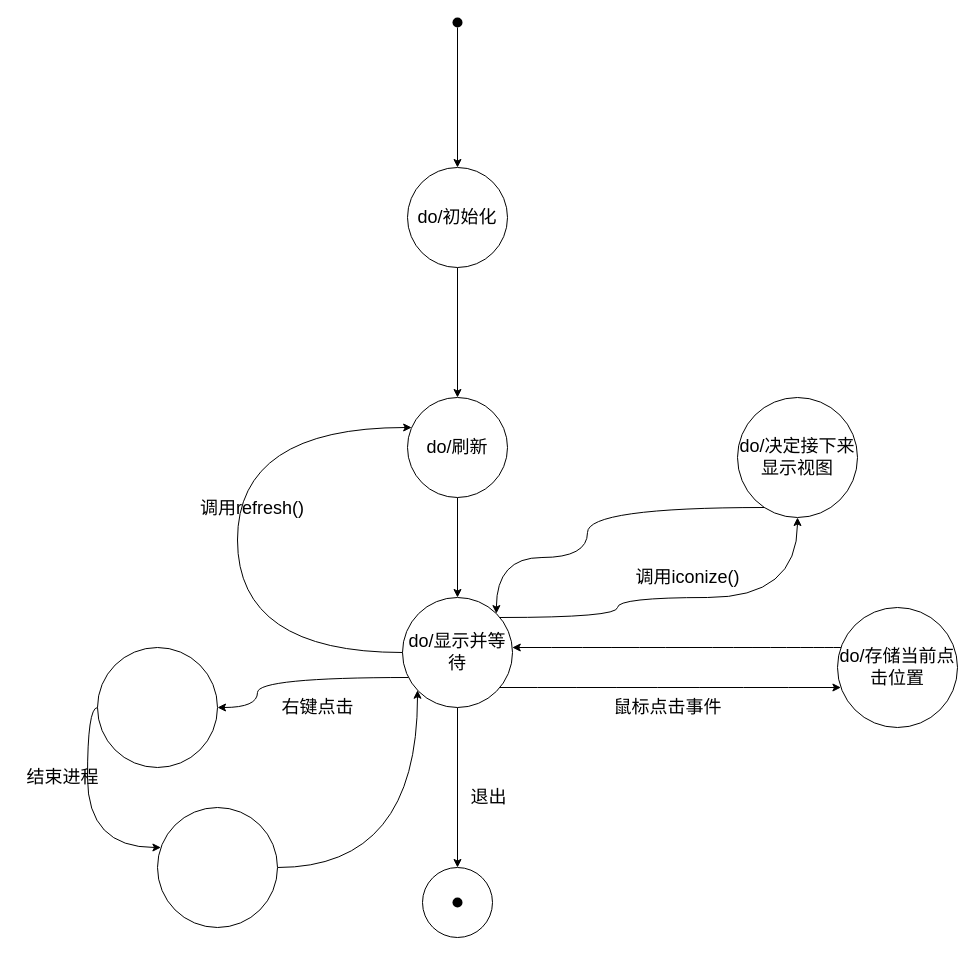
Image size: 975x955. Some labels were removed from this diagram. The box of each missing label's shape, as (x1, y1, x2, y2) in pixels:
do/弹出菜单: (96, 646, 218, 768)
do/结束进程: (156, 806, 278, 928)
